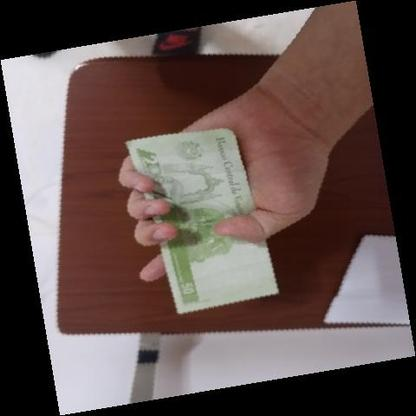fifty-back-vef: (124, 126, 279, 314)
